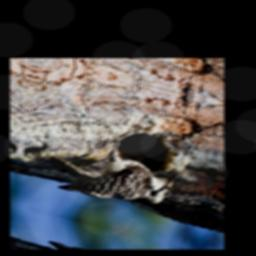Woodpecker: (29, 120, 186, 222)
